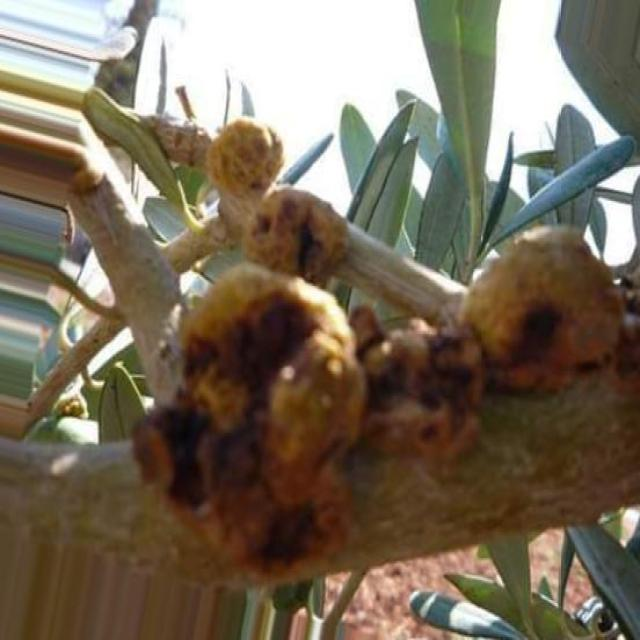Tuberculosis: (146, 264, 482, 567), (463, 224, 639, 402), (243, 189, 346, 283), (209, 116, 283, 204)
